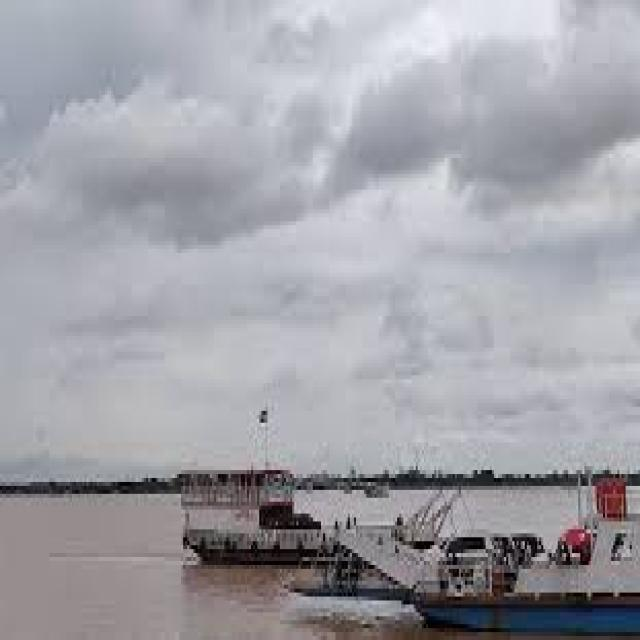houseboat: (172, 435, 328, 569)
